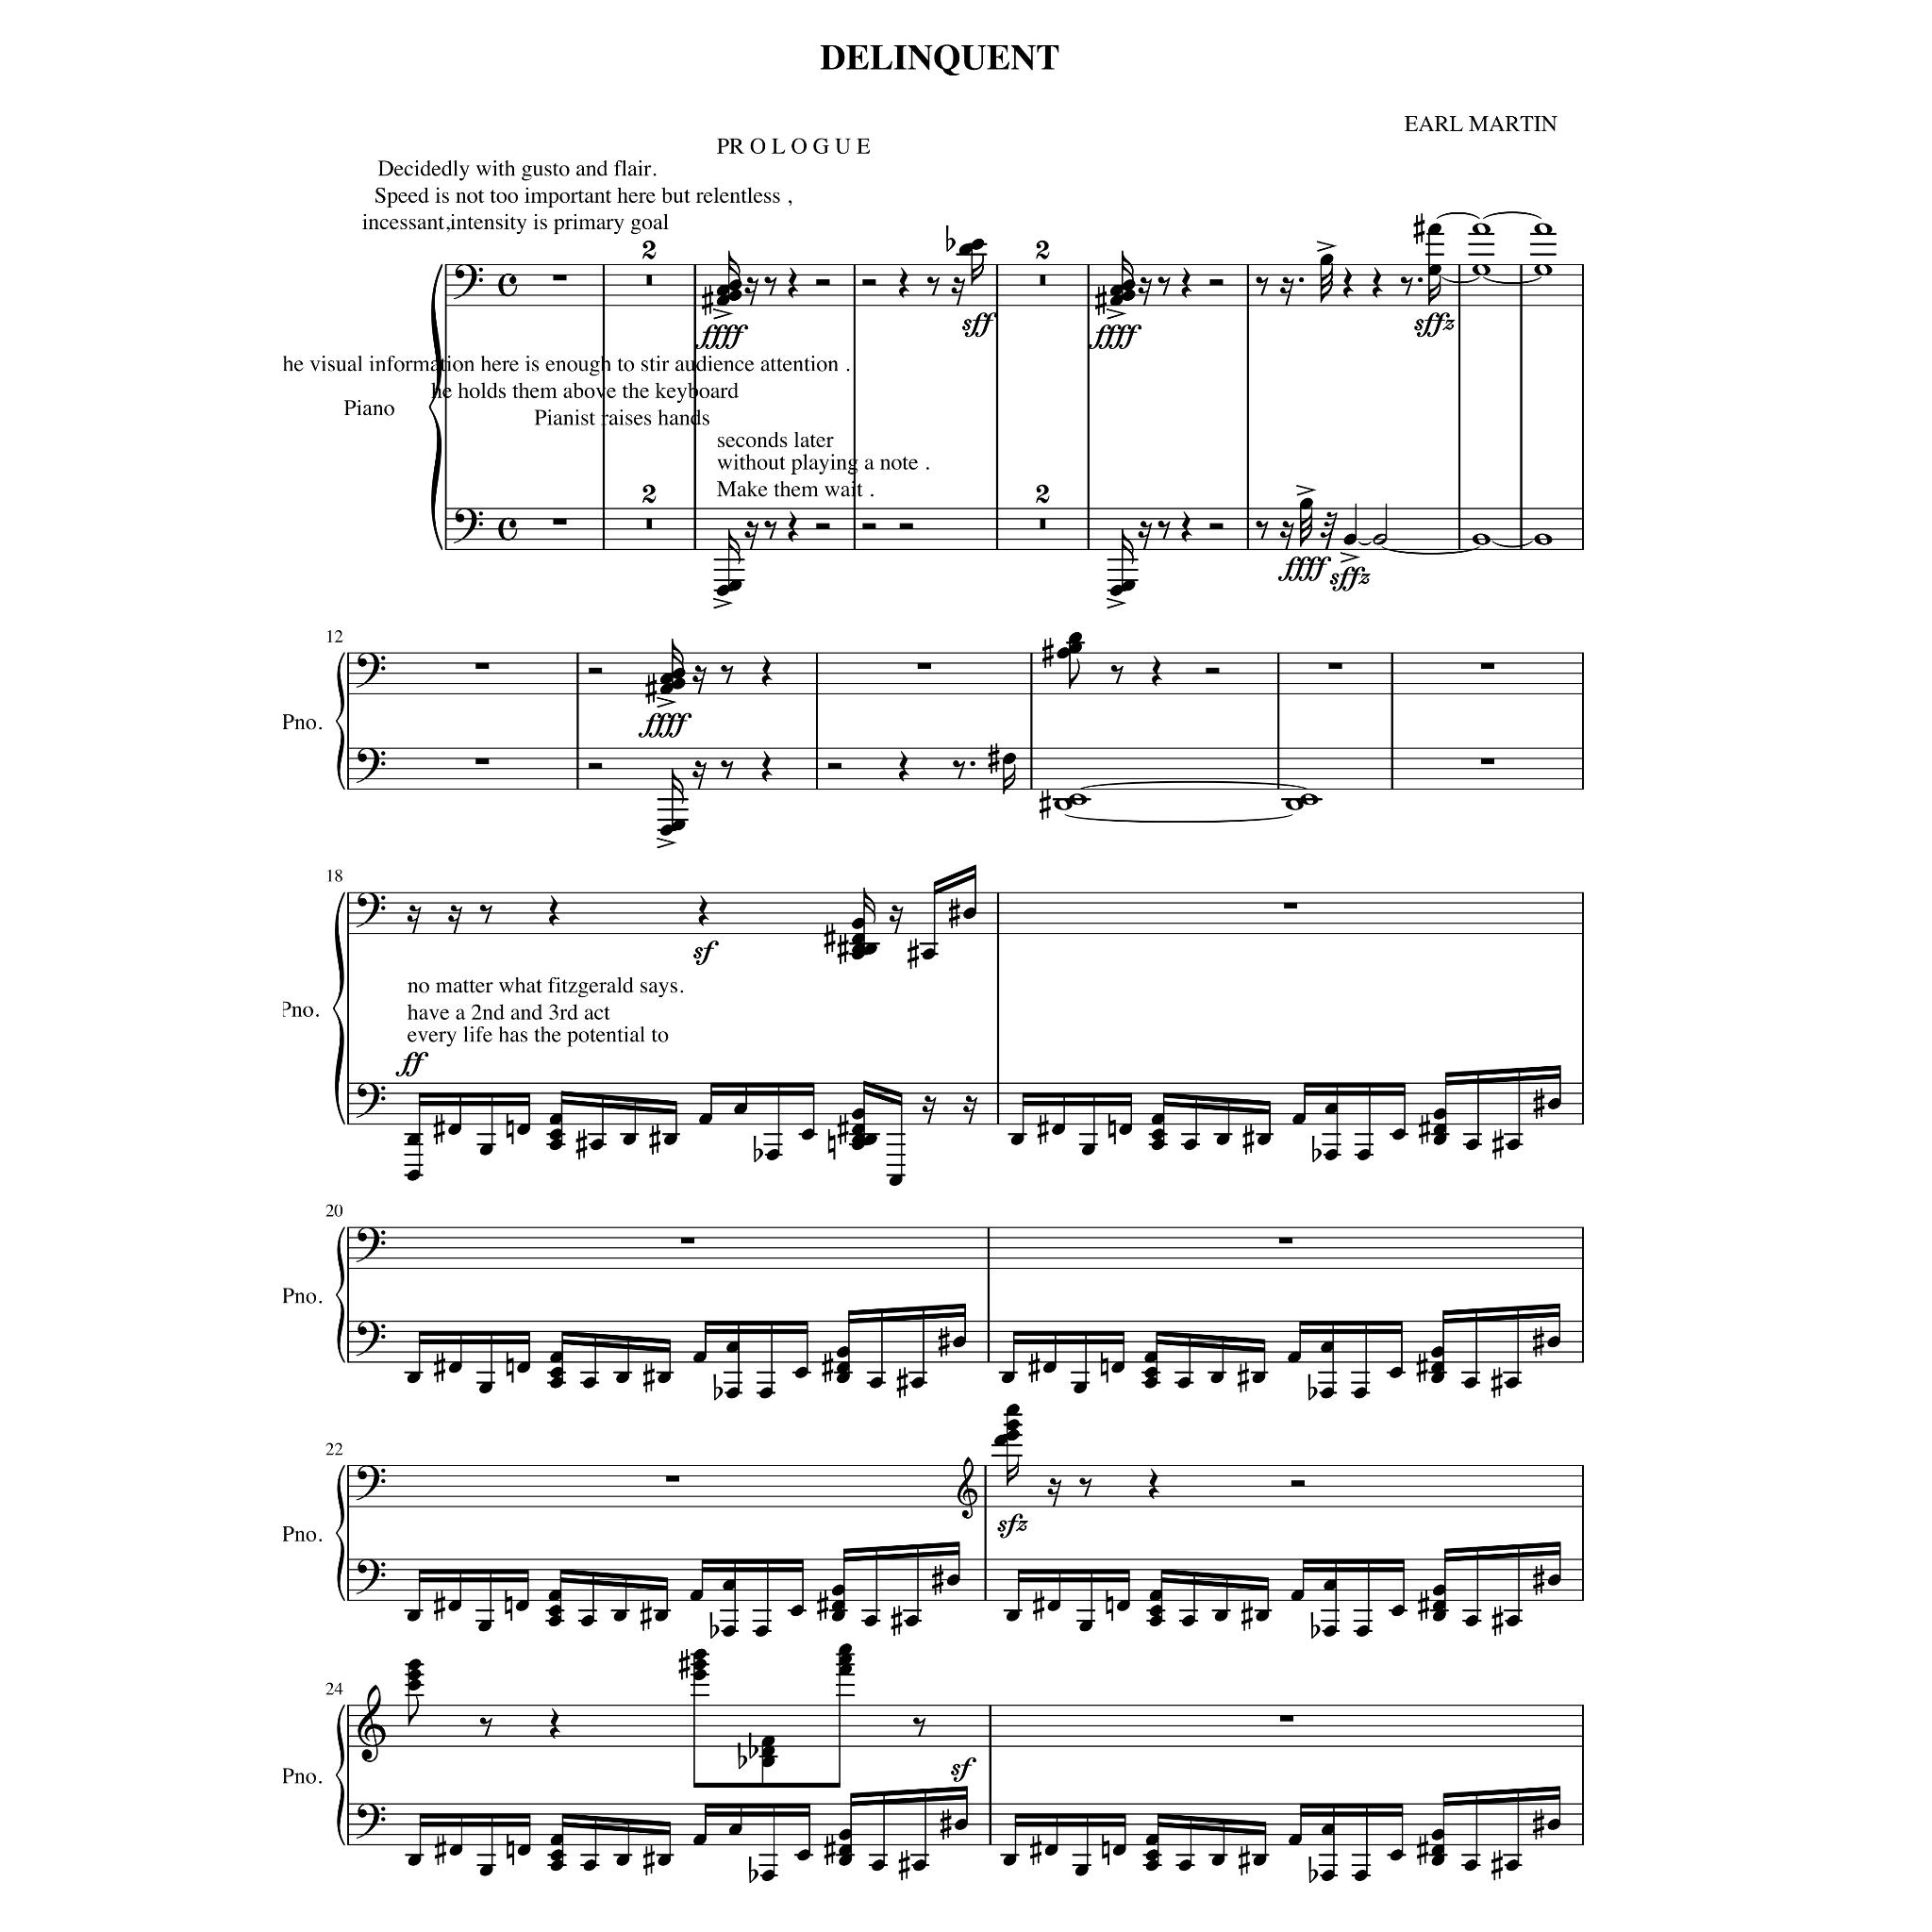brace: (428, 264, 442, 550), (333, 892, 345, 1125), (334, 1704, 345, 1845), (334, 653, 345, 791), (334, 1226, 345, 1364), (334, 1465, 345, 1601)
fClef: (354, 892, 386, 929), (354, 1320, 386, 1357), (354, 1559, 386, 1596), (354, 1803, 386, 1840), (354, 653, 386, 688), (354, 748, 386, 784), (354, 1083, 386, 1118), (354, 1228, 386, 1263), (354, 1465, 386, 1500), (453, 508, 483, 545), (453, 264, 483, 301)
flag16thDown: (1007, 1454, 1019, 1486), (971, 255, 984, 285), (1003, 764, 1016, 794), (1430, 274, 1440, 306)
flag16thUp: (727, 529, 740, 564), (727, 251, 740, 287), (1122, 529, 1134, 564), (1122, 251, 1134, 287), (671, 639, 683, 674), (671, 770, 683, 805), (863, 888, 876, 924)
flag8thDown: (1069, 658, 1079, 690), (409, 1695, 418, 1725)
gClef: (357, 1684, 386, 1762)
noteheadBlack: (1299, 497, 1313, 510), (1320, 255, 1334, 267), (1426, 264, 1440, 276), (1426, 223, 1440, 235), (727, 580, 741, 593), (715, 584, 729, 596), (727, 280, 741, 292), (715, 285, 729, 297), (727, 288, 741, 301), (715, 295, 729, 308), (1122, 280, 1136, 292), (1109, 285, 1123, 297), (1122, 288, 1136, 301), (1109, 295, 1123, 308), (1109, 584, 1123, 596), (957, 244, 971, 257), (1122, 580, 1136, 593), (1003, 752, 1017, 764), (1067, 642, 1081, 655), (1067, 632, 1081, 644), (658, 824, 672, 837), (671, 819, 685, 832), (671, 667, 685, 679), (658, 672, 672, 685), (671, 678, 685, 690), (658, 683, 672, 695), (1051, 1123, 1065, 1136), (1150, 1113, 1164, 1125), (1182, 1138, 1196, 1150), (1118, 1123, 1132, 1136), (1150, 1129, 1164, 1141), (1150, 1138, 1164, 1150), (1215, 1134, 1230, 1146), (962, 908, 977, 920), (922, 948, 936, 961), (1010, 1134, 1024, 1146), (1546, 1097, 1560, 1109), (1506, 1138, 1520, 1150), (1465, 1138, 1479, 1150), (1292, 1113, 1306, 1125), (1323, 1104, 1338, 1116), (1323, 1148, 1338, 1161), (1256, 1134, 1270, 1146), (1433, 1108, 1447, 1120), (1433, 1123, 1447, 1136), (1433, 1134, 1447, 1146), (1391, 1129, 1405, 1141), (1355, 1148, 1369, 1161), (517, 1123, 531, 1136), (589, 1138, 603, 1150), (548, 1113, 563, 1125), (548, 1129, 563, 1141), (548, 1138, 563, 1150), (448, 1123, 462, 1136), (407, 1134, 421, 1146), (407, 1169, 421, 1182), (800, 1129, 814, 1141), (863, 1134, 878, 1146), (851, 1138, 865, 1150), (851, 934, 865, 947), (851, 943, 865, 955), (863, 943, 878, 955), (851, 948, 865, 961), (851, 1134, 865, 1146), (766, 1148, 780, 1161), (888, 1175, 902, 1187), (851, 1108, 865, 1120), (851, 1123, 865, 1136), (699, 1113, 713, 1125), (663, 1134, 678, 1146), (623, 1134, 637, 1146), (734, 1104, 748, 1116), (1177, 1376, 1191, 1389), (1145, 1352, 1159, 1364), (1145, 1366, 1159, 1378), (1145, 1376, 1159, 1389), (1286, 1352, 1300, 1364), (1109, 1362, 1123, 1375), (1074, 1382, 1088, 1394), (1042, 1362, 1056, 1375), (1546, 1336, 1560, 1348), (1353, 1387, 1368, 1399), (1389, 1366, 1403, 1378), (1320, 1341, 1334, 1353), (1320, 1387, 1334, 1399), (1431, 1346, 1445, 1359), (1431, 1362, 1445, 1375), (550, 1352, 564, 1364), (550, 1366, 564, 1378), (550, 1376, 564, 1389), (517, 1362, 531, 1375), (478, 1382, 492, 1394), (582, 1376, 596, 1389), (448, 1362, 462, 1375), (835, 1346, 849, 1359), (835, 1362, 849, 1375), (869, 1376, 883, 1389), (794, 1366, 809, 1378), (952, 1336, 966, 1348), (909, 1376, 924, 1389), (725, 1387, 740, 1399), (725, 1341, 740, 1353), (692, 1352, 706, 1364), (759, 1387, 773, 1399), (1148, 1605, 1162, 1617), (1148, 1589, 1162, 1601), (1148, 1615, 1162, 1628), (1116, 1599, 1131, 1612), (1254, 1610, 1269, 1622), (1214, 1610, 1228, 1622), (1180, 1615, 1194, 1628), (1047, 1599, 1062, 1612), (1079, 1621, 1093, 1633), (1546, 1575, 1560, 1587), (1506, 1615, 1520, 1628), (1465, 1615, 1479, 1628), (1355, 1624, 1369, 1637), (1323, 1578, 1338, 1591), (1323, 1624, 1338, 1637), (1290, 1589, 1304, 1601), (1431, 1599, 1445, 1612), (1431, 1610, 1445, 1622), (1391, 1605, 1405, 1617), (580, 1615, 594, 1628), (548, 1589, 563, 1601), (548, 1605, 563, 1617), (548, 1615, 563, 1628), (515, 1599, 529, 1612), (690, 1589, 704, 1601), (655, 1610, 669, 1622), (612, 1610, 626, 1622), (478, 1621, 492, 1633), (448, 1599, 462, 1612), (407, 1610, 421, 1622), (904, 1615, 918, 1628), (863, 1615, 878, 1628), (830, 1599, 844, 1612), (1005, 1430, 1019, 1442), (1005, 1610, 1019, 1622), (1005, 1403, 1019, 1415), (1005, 1419, 1019, 1431), (993, 1435, 1007, 1447), (947, 1575, 961, 1587), (830, 1610, 844, 1622), (754, 1624, 768, 1637), (722, 1578, 736, 1591), (722, 1624, 736, 1637), (789, 1605, 803, 1617), (1111, 1844, 1125, 1856), (1074, 1865, 1088, 1877), (1044, 1844, 1058, 1856), (1178, 1859, 1192, 1872), (1210, 1854, 1224, 1867), (1145, 1833, 1159, 1845), (1145, 1849, 1159, 1861), (1145, 1859, 1159, 1872), (954, 1819, 968, 1831), (911, 1859, 925, 1872), (1546, 1819, 1560, 1831), (1506, 1859, 1520, 1872), (1463, 1859, 1477, 1872), (1320, 1824, 1334, 1836), (1288, 1833, 1302, 1845), (1431, 1829, 1445, 1842), (1431, 1844, 1445, 1856), (1431, 1854, 1445, 1867), (1253, 1854, 1267, 1867), (1389, 1849, 1403, 1861), (517, 1844, 531, 1856), (550, 1859, 564, 1872), (479, 1865, 494, 1877), (616, 1854, 630, 1867), (582, 1859, 596, 1872), (550, 1833, 564, 1845), (550, 1849, 564, 1861), (449, 1844, 464, 1856), (407, 1854, 421, 1867), (407, 1660, 421, 1672), (407, 1679, 421, 1691), (839, 1844, 853, 1856), (839, 1854, 853, 1867), (761, 1736, 775, 1748), (761, 1746, 775, 1759), (839, 1829, 853, 1842), (727, 1824, 741, 1836), (796, 1849, 810, 1861), (839, 1663, 853, 1675), (839, 1652, 853, 1665), (839, 1644, 853, 1656), (692, 1833, 706, 1845), (692, 1649, 706, 1661), (692, 1660, 706, 1672), (656, 1854, 671, 1867), (870, 1859, 885, 1872), (971, 239, 984, 251), (1506, 1376, 1518, 1389), (1463, 1376, 1476, 1389), (1003, 1854, 1016, 1867), (1343, 534, 1357, 545), (1056, 648, 1070, 658), (1081, 1145, 1095, 1155), (479, 1145, 494, 1155), (851, 918, 865, 929), (1251, 1373, 1265, 1384), (1210, 1373, 1224, 1384), (1000, 1373, 1014, 1384), (1431, 1373, 1445, 1384), (656, 1373, 671, 1384), (614, 1373, 628, 1384), (407, 1373, 421, 1384), (835, 1373, 849, 1384), (1431, 1585, 1445, 1596), (830, 1585, 844, 1596), (1320, 1870, 1334, 1881), (1353, 1870, 1368, 1881), (407, 1670, 421, 1681), (761, 1870, 775, 1881), (761, 1757, 775, 1767), (692, 1670, 706, 1681)
noteheadHalf: (1371, 534, 1387, 545)
noteheadWhole: (1532, 223, 1552, 235), (1532, 264, 1552, 276), (1053, 798, 1072, 810), (1284, 798, 1304, 810), (1299, 794, 1318, 807), (1472, 223, 1490, 235), (1472, 264, 1490, 276), (1069, 794, 1086, 807), (1532, 534, 1552, 545), (1472, 534, 1490, 545)
rest16th: (1279, 276, 1295, 306), (920, 1095, 936, 1125), (1046, 1477, 1062, 1507), (1279, 522, 1295, 550), (405, 906, 421, 934), (888, 906, 904, 934), (1138, 276, 1152, 306), (745, 276, 759, 306), (950, 276, 964, 306), (692, 665, 706, 695), (692, 761, 706, 791), (962, 1095, 977, 1125), (745, 522, 759, 550), (1138, 522, 1152, 550), (448, 906, 462, 934)
rest8th: (1157, 276, 1171, 297), (1254, 276, 1269, 297), (1399, 276, 1414, 297), (763, 276, 777, 297), (1157, 520, 1171, 540), (1254, 520, 1269, 540), (763, 520, 777, 540), (1077, 1477, 1092, 1497), (927, 276, 939, 297), (952, 759, 964, 780), (720, 759, 732, 780), (1111, 665, 1123, 685), (720, 665, 732, 685), (479, 904, 492, 924), (913, 1718, 925, 1737), (479, 1718, 492, 1737)
restHNr: (642, 483, 656, 506), (1035, 483, 1049, 506), (642, 239, 656, 260), (1035, 239, 1049, 260)
restHalf: (1205, 667, 1219, 674), (587, 763, 602, 770), (587, 667, 602, 674), (826, 763, 840, 770), (1290, 1481, 1304, 1488), (1208, 280, 1223, 285), (1208, 524, 1223, 529), (816, 524, 830, 529), (816, 280, 830, 285), (862, 280, 876, 285), (899, 524, 913, 529), (862, 524, 876, 529)
restQuarter: (1371, 267, 1384, 299), (548, 1707, 561, 1739), (761, 656, 773, 686), (761, 752, 773, 782), (1343, 267, 1353, 299), (1182, 511, 1192, 543), (1182, 267, 1192, 299), (787, 511, 798, 543), (787, 267, 798, 299), (899, 267, 909, 299), (548, 895, 559, 927), (697, 895, 708, 927), (1148, 1468, 1159, 1500), (1152, 656, 1162, 686), (899, 752, 909, 782)
restWhole: (552, 518, 566, 525), (552, 274, 566, 281), (1479, 757, 1493, 764), (474, 757, 488, 764), (1283, 902, 1297, 909), (679, 1237, 694, 1244), (1277, 1237, 1292, 1244), (665, 1476, 679, 1483), (646, 274, 653, 287), (1039, 274, 1046, 287), (1327, 663, 1341, 669), (916, 663, 931, 669), (1479, 663, 1493, 669), (474, 663, 488, 669), (1279, 1716, 1293, 1721), (646, 520, 653, 529), (1039, 520, 1046, 529)
